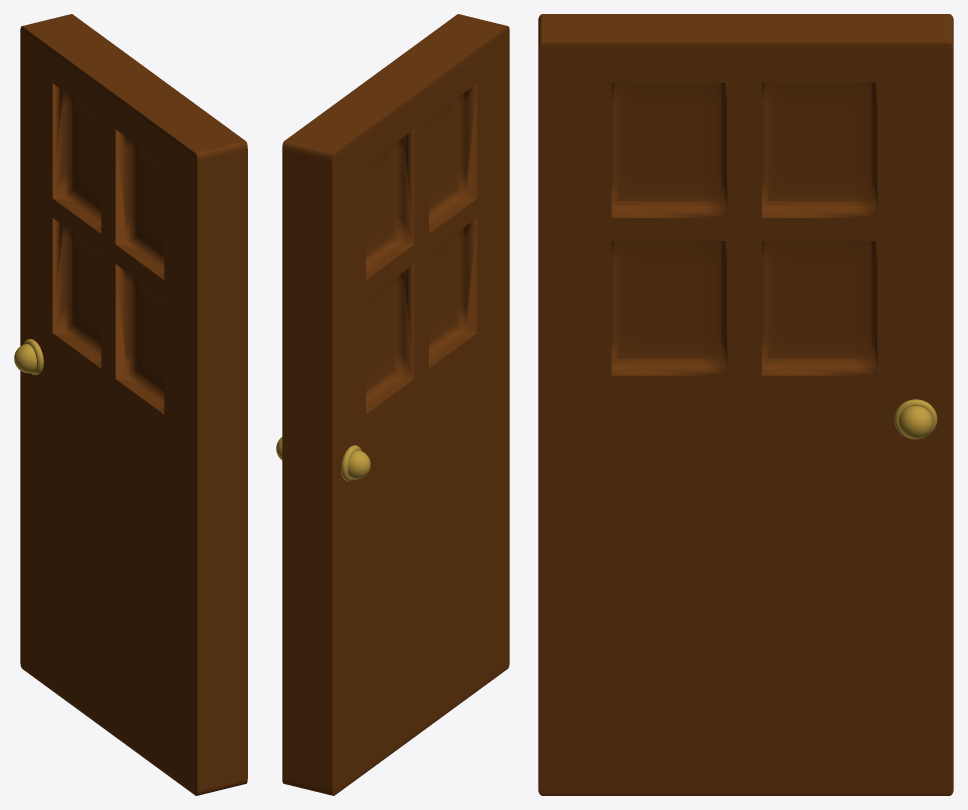
File: porta.glb
The picture shows the model from 3 angles, left to right: view 1: azimuth 30°, elevation 25°; view 2: azimuth 150°, elevation 25°; view 3: azimuth 270°, elevation 25°; orthographic projection. The views are drawn at different scales.
Parts seen in each view (by area): view 1: Porta; view 2: Porta; view 3: Porta.
Boxes of the visible parts, left/top/right/bottom form: Porta: left=14, top=14, right=247, bottom=795; Porta: left=276, top=14, right=509, bottom=795; Porta: left=538, top=14, right=953, bottom=795.
Size of the model in its own units: 7.1 by 48 by 24.
